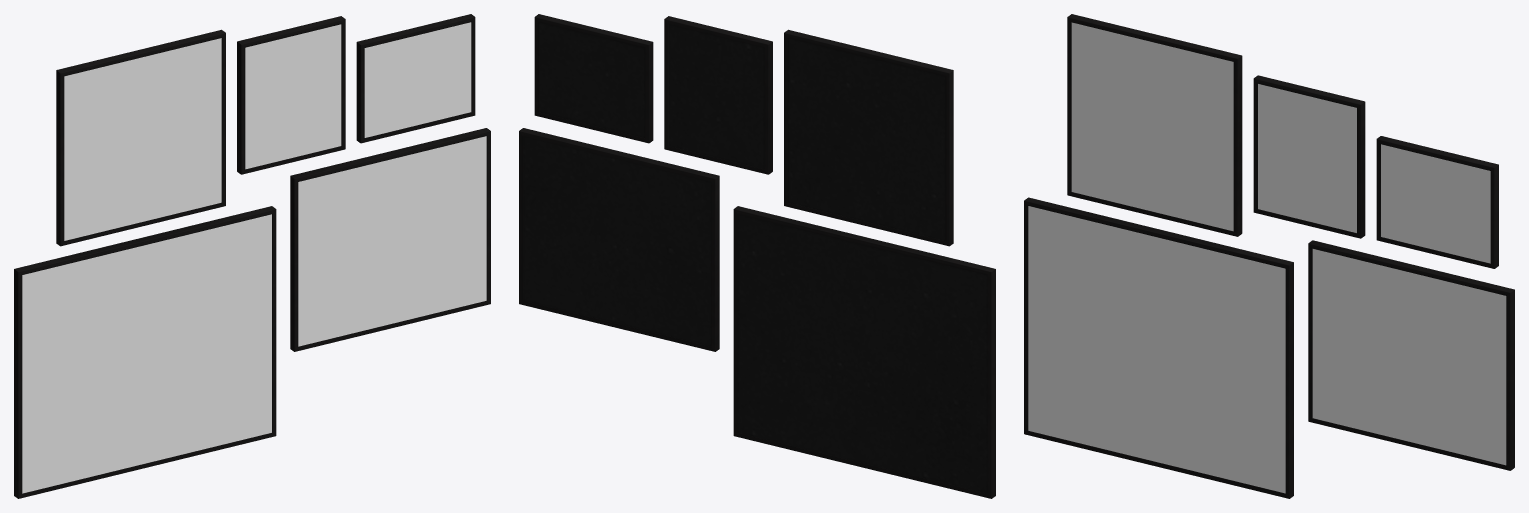
The model's file is photo_frames.glb.
The picture shows the model from 3 angles, left to right: view 1: azimuth 30°, elevation 25°; view 2: azimuth 150°, elevation 25°; view 3: azimuth 330°, elevation 25°; orthographic projection. The views are drawn at different scales.
Parts seen in each view (by area): view 1: FiveAssortedPictureFrames; view 2: FiveAssortedPictureFrames; view 3: FiveAssortedPictureFrames.
Boxes of the visible parts, bbox=[...] form: FiveAssortedPictureFrames: bbox=[14, 14, 490, 498]; FiveAssortedPictureFrames: bbox=[519, 14, 995, 498]; FiveAssortedPictureFrames: bbox=[1024, 14, 1514, 498].
Bounding box in the file's own units: 117 × 98.56 × 1.91.
4 materials, 4 textured.
